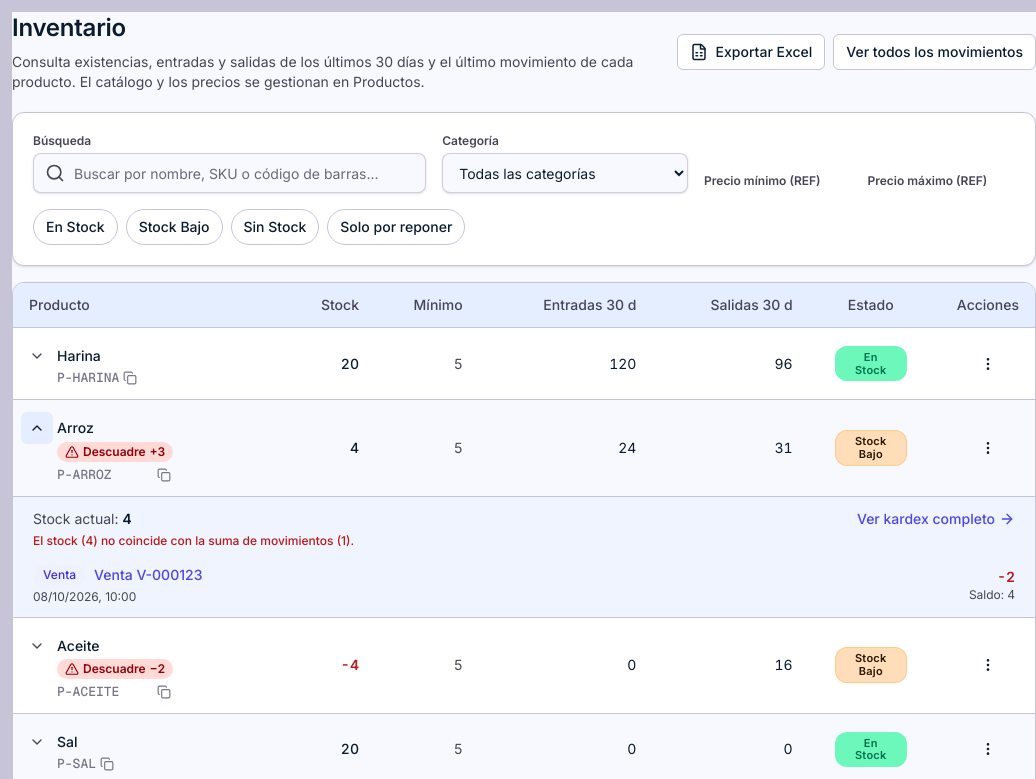
Test: InventoryListPage · vista única de stock › movimientos en línea › replaces the expanded product when another row is expanded
expect the element named "Últimos movimientos de Arroz" is shown: met, box [13,496,1035,616]
Click the button named "Ver movimientos de Harina" at (37, 356), box [21,340,53,372]
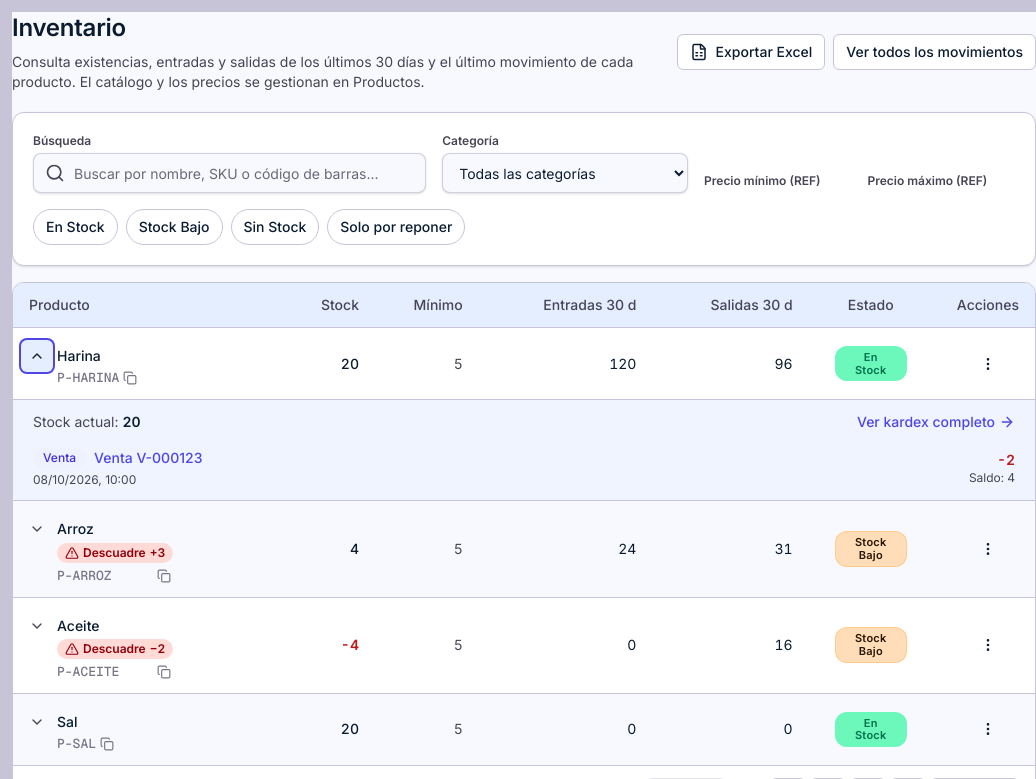
expect the number of elements named "Últimos movimientos de " is 1: met, box [13,400,1035,500]
expect the button named "Ver movimientos de Arroz" is collapsed: met, box [21,513,53,545]
